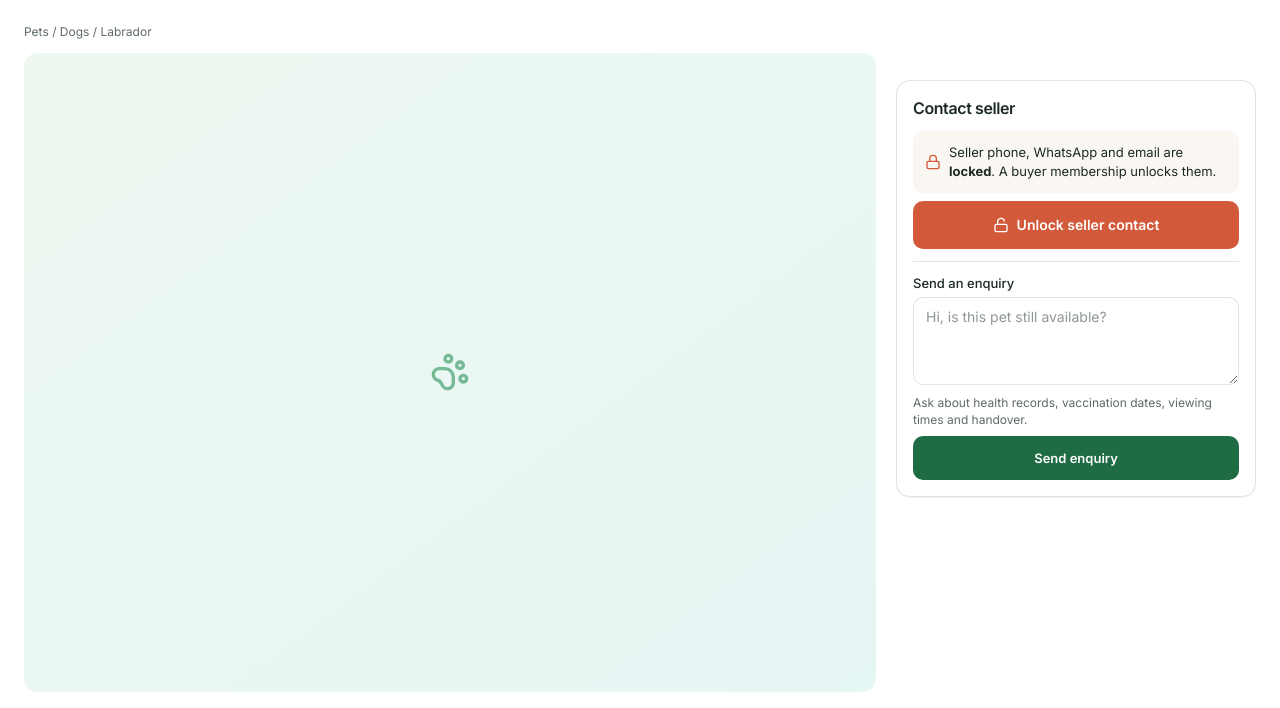
Test: pet detail: contact locking › shows contact only after the API grants it, and the enquiry form is available
Click the button "Unlock seller contact": (1076, 225) [913,201,1239,249]
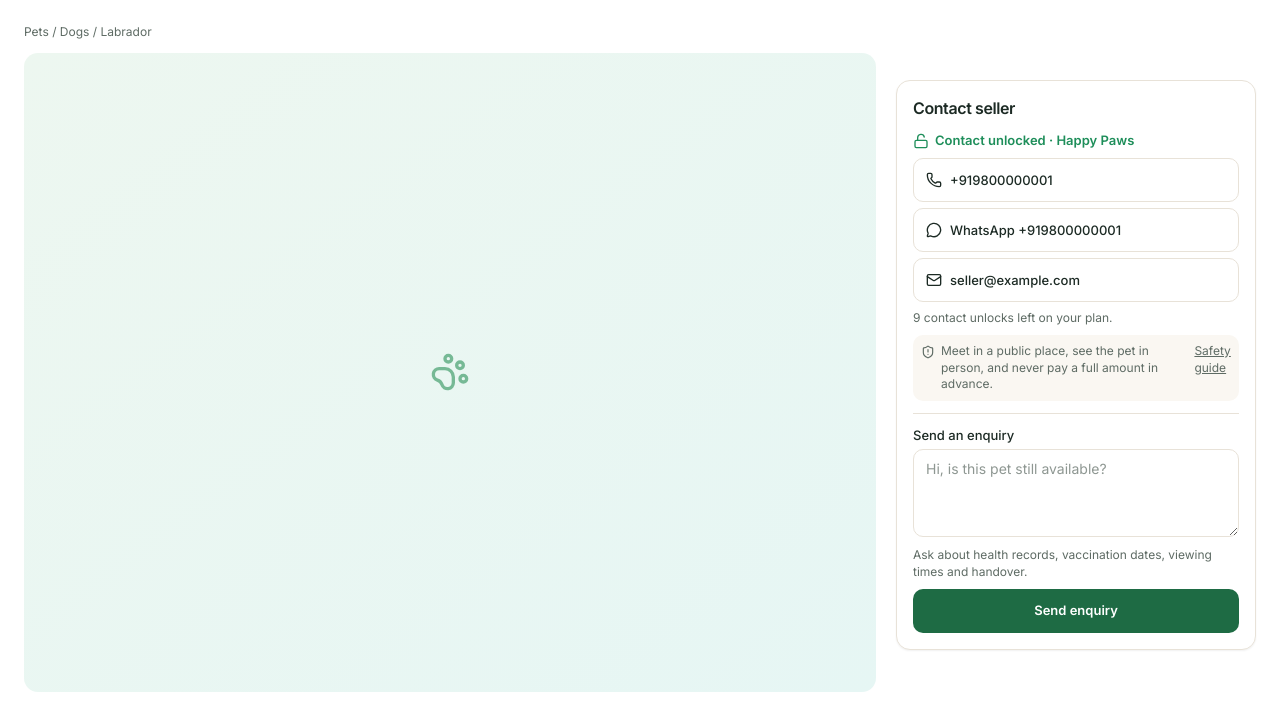
Expected: the button "Send enquiry" is shown, [913,589,1239,633]
Expected: the text "9 contact unlocks left on your plan." is shown, [913,310,1112,325]
